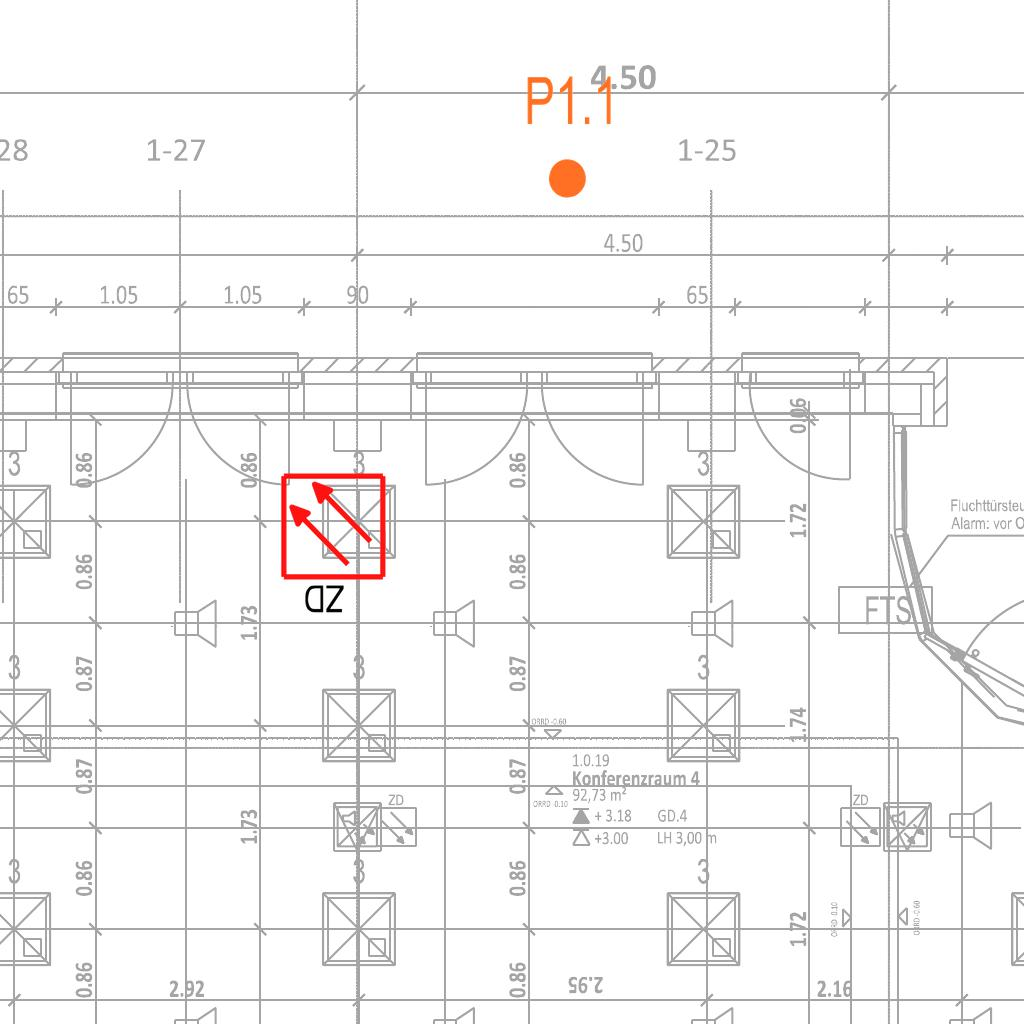Downlight_LED_Einbauleuchten_Flur: (524, 73, 617, 201)
ZD_Melder_in_Zwischendecke_mit_Revisionsoeffnung_mind_40_x_40_cm: (278, 471, 392, 620)
